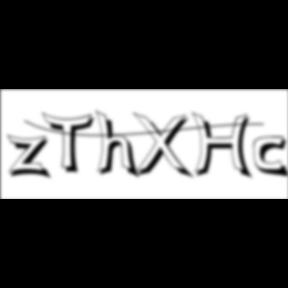H: (191, 112, 257, 182)
T: (42, 112, 100, 176)
X: (132, 112, 196, 182)
h: (96, 108, 142, 182)
z: (7, 134, 56, 182)
